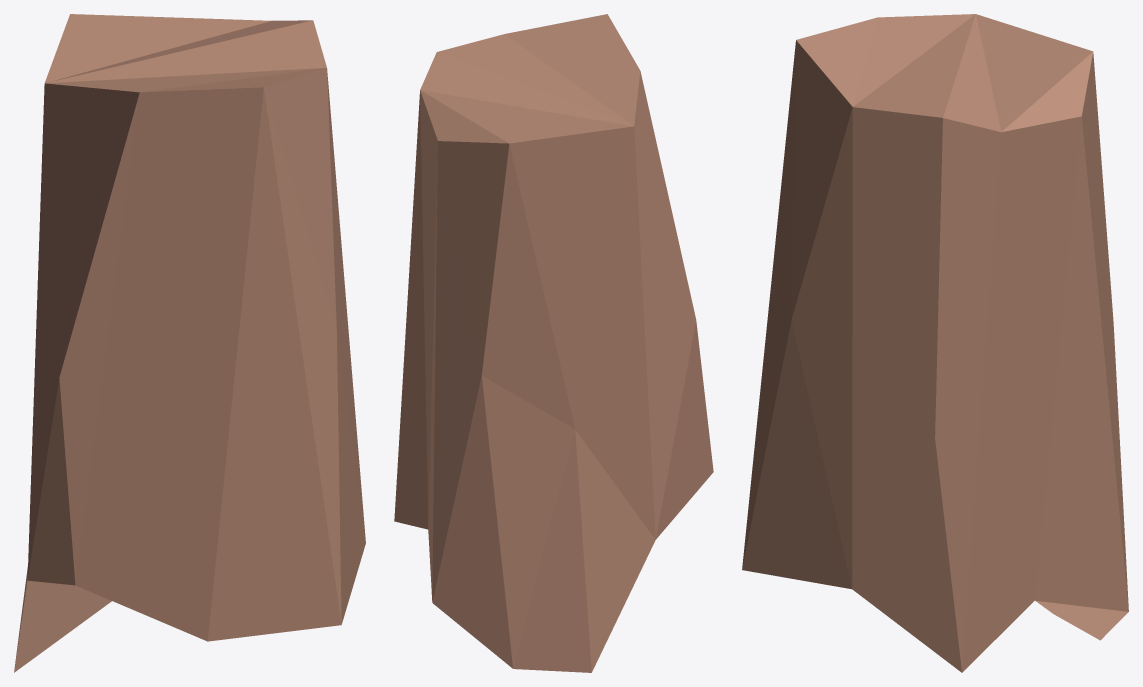
Rendered from ashTreeCut.fbx.
3 views of the same model, side by side, from view 1: azimuth 30°, elevation 25°; view 2: azimuth 150°, elevation 25°; view 3: azimuth 270°, elevation 25° (orthographic). The views are drawn at different scales.
Parts seen in each view (by area): view 1: AshTree2Cut; view 2: AshTree2Cut; view 3: AshTree2Cut.
Part boxes in pixels (x1,y1,x2,y2): AshTree2Cut: [14, 14, 365, 672]; AshTree2Cut: [394, 14, 713, 672]; AshTree2Cut: [742, 14, 1128, 672].
Bounding box in the file's own units: 201 × 388 × 217.
